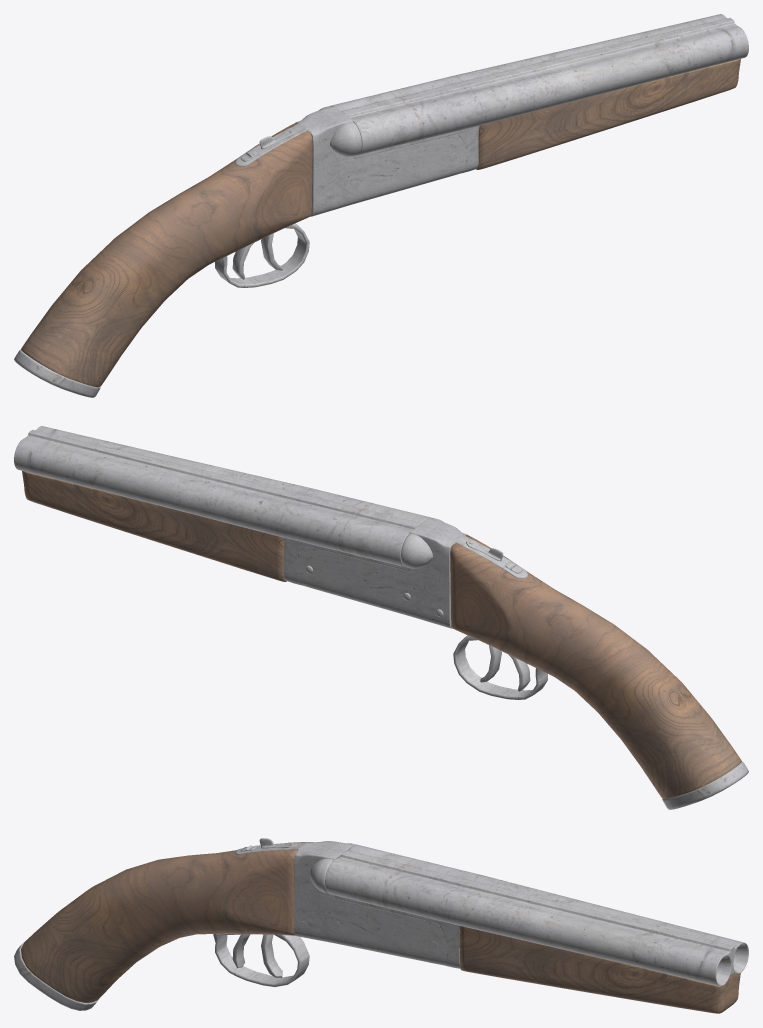
Rendered from double-barrel-shotgun__Shotgun_1__Shotgun__doubleBarrelHight.glb.
The picture shows the model from 3 angles, top to bottom: view 1: azimuth 30°, elevation 25°; view 2: azimuth 150°, elevation 25°; view 3: azimuth 330°, elevation 25°; orthographic projection.
Parts seen in each view (by area): view 1: Cylinder.004, Cylinder, Cylinder.003, Cylinder.001, Cylinder.005, Cylinder.002, Cylinder.007; view 2: Cylinder.004, Cylinder, Cylinder.003, Cylinder.001, Cylinder.005, Cylinder.002, Cylinder.007; view 3: Cylinder.004, Cylinder, Cylinder.003, Cylinder.001, Cylinder.005, Cylinder.007, Cylinder.002.
Boxes of the visible parts, x1,y1,x2,y2 form: Cylinder.004: (14,123,312,397); Cylinder: (330,14,748,173); Cylinder.003: (476,59,740,169); Cylinder.001: (235,106,466,216); Cylinder.005: (215,223,309,287); Cylinder.002: (318,106,361,156); Cylinder.007: (232,233,282,279); Cylinder.004: (450,535,748,809); Cylinder: (14,426,432,585); Cylinder.003: (22,471,286,581); Cylinder.001: (296,518,527,628); Cylinder.005: (453,635,547,699); Cylinder.002: (401,518,444,568); Cylinder.007: (480,645,530,691); Cylinder.004: (14,842,309,1010); Cylinder: (325,844,748,986); Cylinder.003: (459,926,740,1013); Cylinder.001: (235,841,447,965); Cylinder.005: (213,933,309,986); Cylinder.007: (232,934,282,977); Cylinder.002: (309,843,355,893).
Bounding box in the file's own units: 4.52 × 1.33 × 0.413.
Materials: 2 (2 with a texture image).
